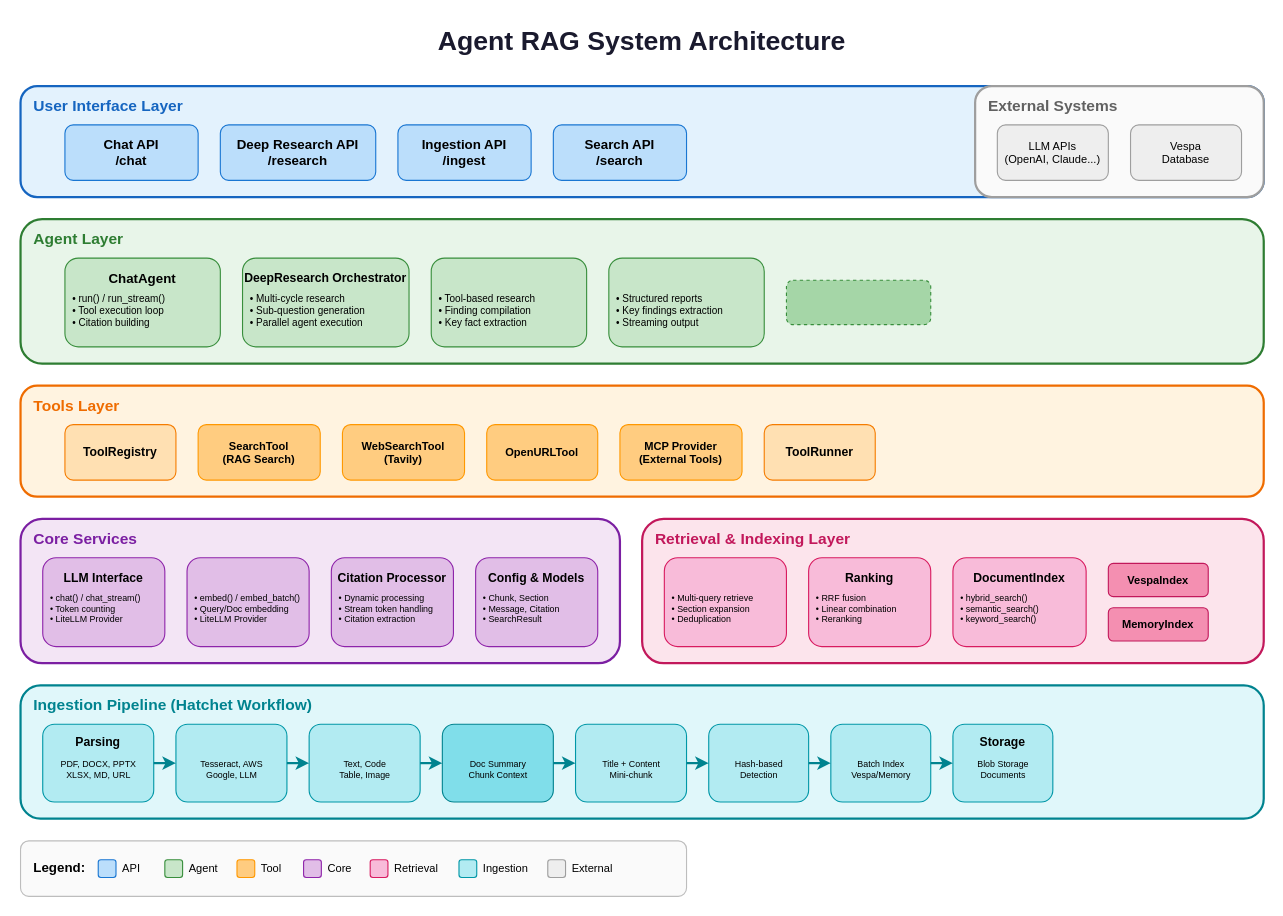
Image size: 1283x916. Some labels were removed from this diagram. The shapes that lost their labels are listed below. From the top down, each one's box as (x1, y1, x2, y2) in pixels, then its label:
(430, 257, 587, 347): ResearchAgent
(608, 257, 764, 347): ReportGenerator
(785, 279, 931, 325): BaseAgent (Abstract)
(186, 557, 309, 647): Embedder
(663, 557, 786, 647): Retrieval Pipeline
(175, 723, 287, 802): OCR
(308, 723, 420, 802): Chunking
(441, 723, 553, 802): Contextual RAG
(574, 723, 687, 802): Embedding
(708, 723, 809, 802): Dedup
(830, 723, 931, 802): Indexing
